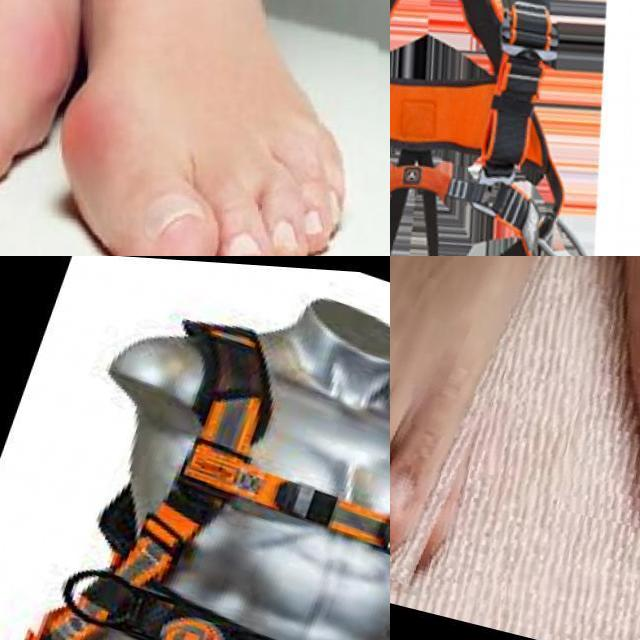Barefoots: (59, 0, 346, 256), (390, 256, 556, 568)
Harness: (26, 322, 390, 640), (390, 0, 564, 256)
